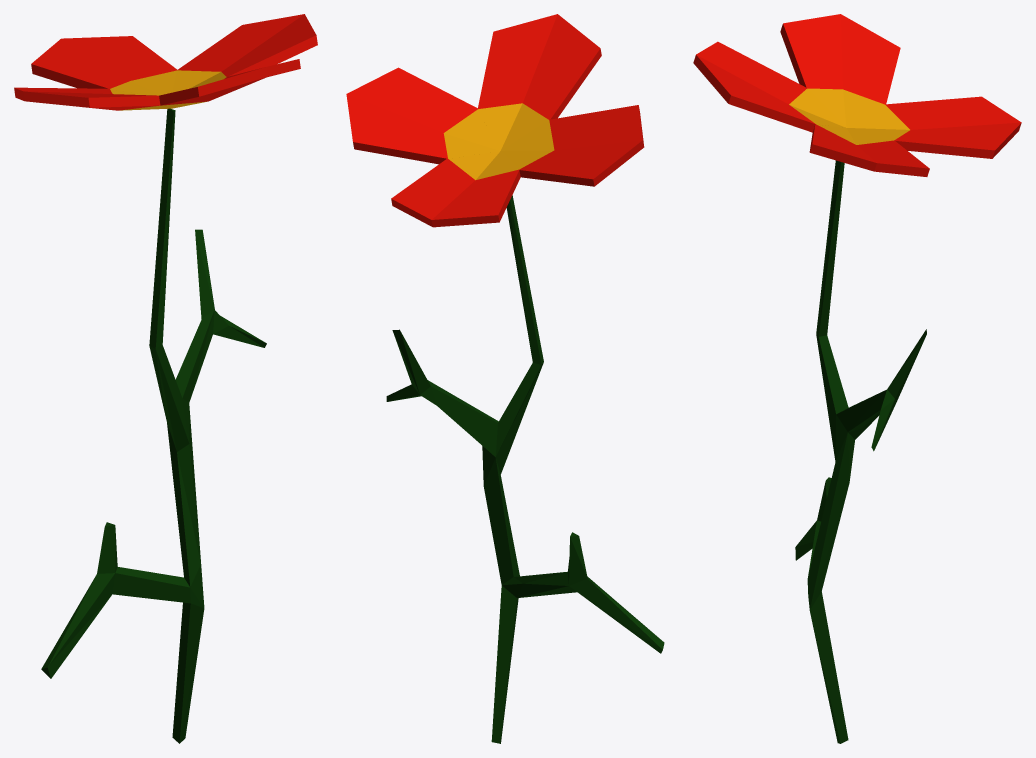
The model's file is red_flower.fbx.
3 renders of one model, left to right at view 1: azimuth 30°, elevation 25°; view 2: azimuth 150°, elevation 25°; view 3: azimuth 270°, elevation 25°, orthographic. The views are drawn at different scales.
Visible parts, largest first — view 1: Cube, Plane.003; view 2: Plane.003, Cube; view 3: Plane.003, Cube.
Boxes of the visible parts, box(x1,y1,x2,y2) form: Cube: box(41, 108, 266, 743); Plane.003: box(14, 14, 317, 110); Plane.003: box(346, 14, 644, 227); Cube: box(386, 195, 664, 743); Plane.003: box(693, 14, 1021, 176); Cube: box(795, 160, 926, 743).
Size of the model in its own units: 19.56 by 45.06 by 19.31.
